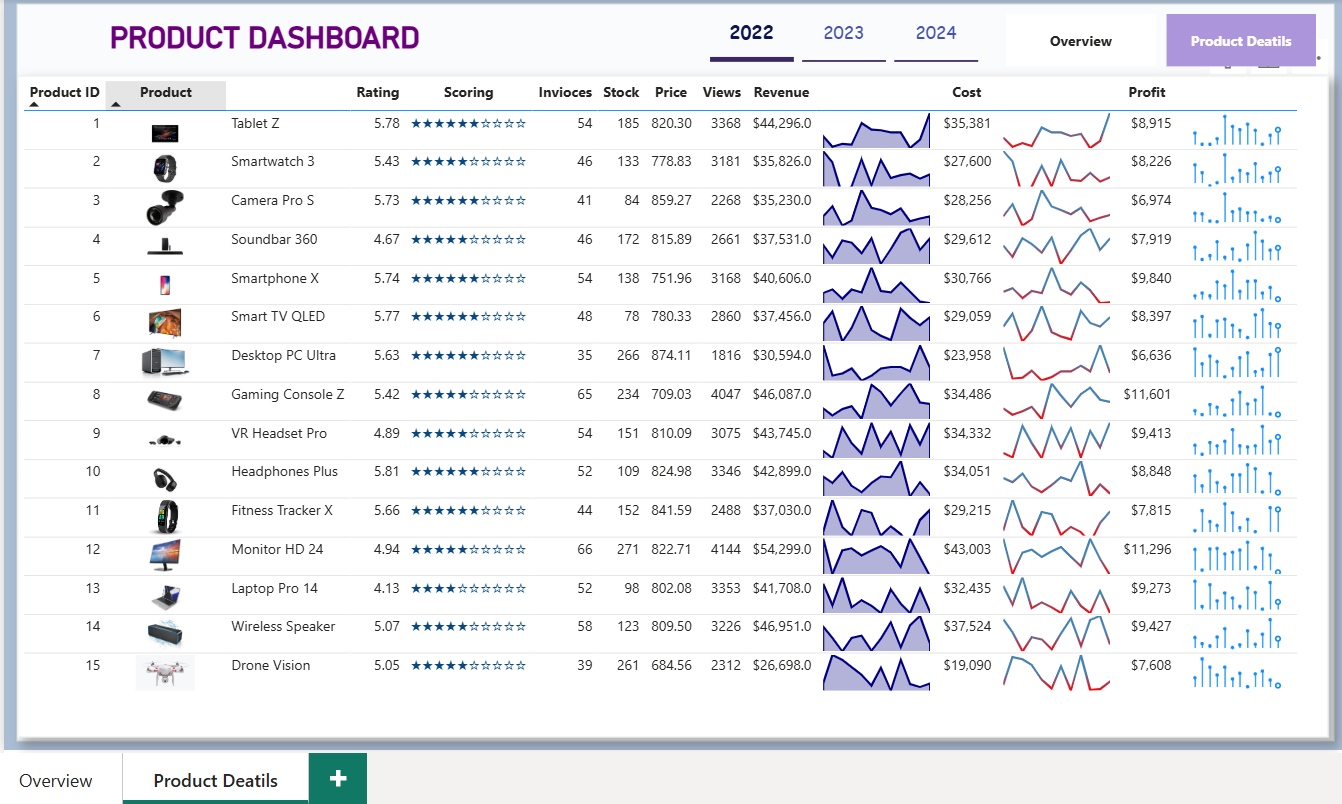

This screenshot's page, from the dashboard's own definition file:
{"tool":"powerbi","page":{"name":"Product Deatils","canvas":[1280,720],"ordinal":1},"visuals":[{"type":"tableEx","fields":{"Values":["dimProduct.Product ID","dimProduct.Img","dimProduct.Product","All Measures.Avg Customer Rating","All Measures.Scoring","All Measures.Invioces","dimProduct.Stock Quantity","Avg(factSalesData.Sales Amount (USD))","Sum(factSalesData.Views)","All Measures.Revenue","All Measures.Revenue Sparkline","All Measures.Cost"]},"box":[13.3,73.3,1251.7,631.7],"z":0},{"type":"advancedSlicerVisual","fields":{"Values":["Calendar.Year"]},"box":[668.3,0,268.3,65],"z":1000},{"type":"pageNavigator","box":[956.7,15,296.7,50],"z":2000},{"type":"textbox","box":[95.4,14.3,400.8,50.9],"z":3000}]}

Visuals, with their boxes on the page's 1280x720 design canvas (x1, y1, x2, y2). These are canvas units, not pixel positions in the 1342x804 screenshot, which may show the page scaled, cropped or inside an application window:
tableEx - dimProduct.Product ID x dimProduct.Img: (13,73,1265,705)
advancedSlicerVisual - Calendar.Year: (668,0,937,65)
pageNavigator: (957,15,1253,65)
textbox: (95,14,496,65)
